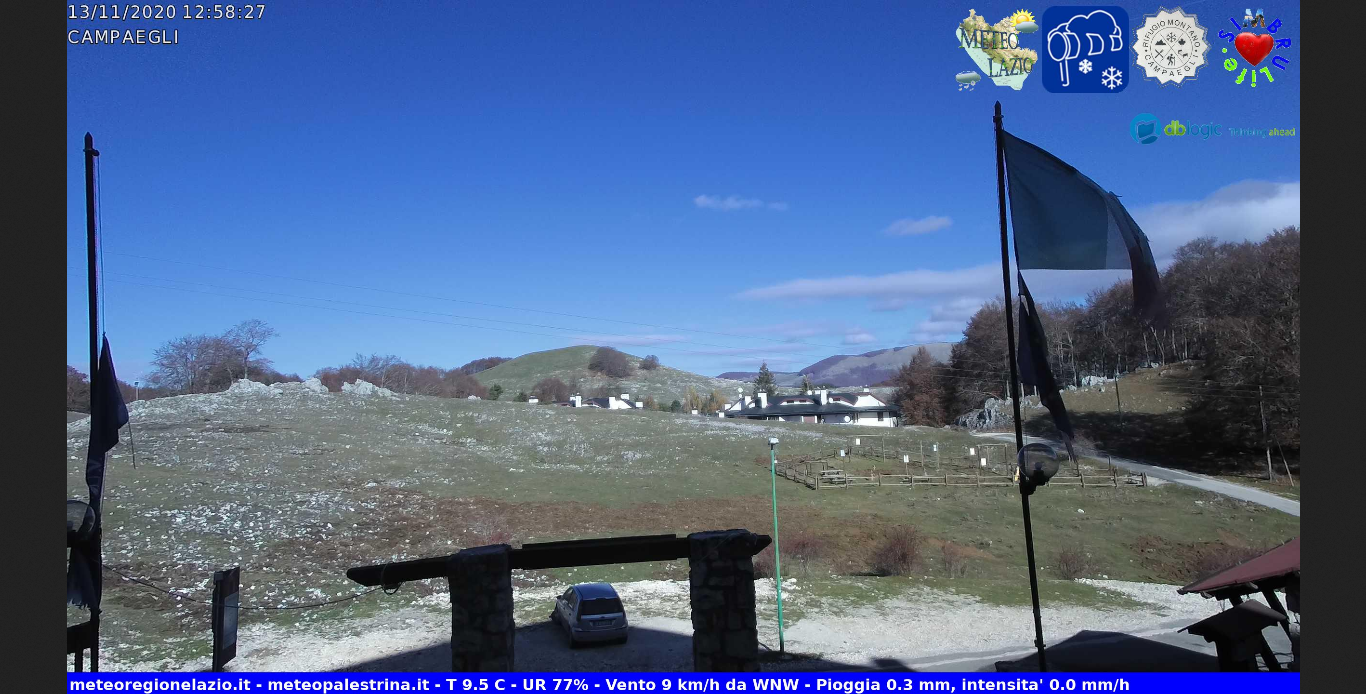maybe: (989, 103, 1186, 335)
no: (1000, 286, 1091, 486)
